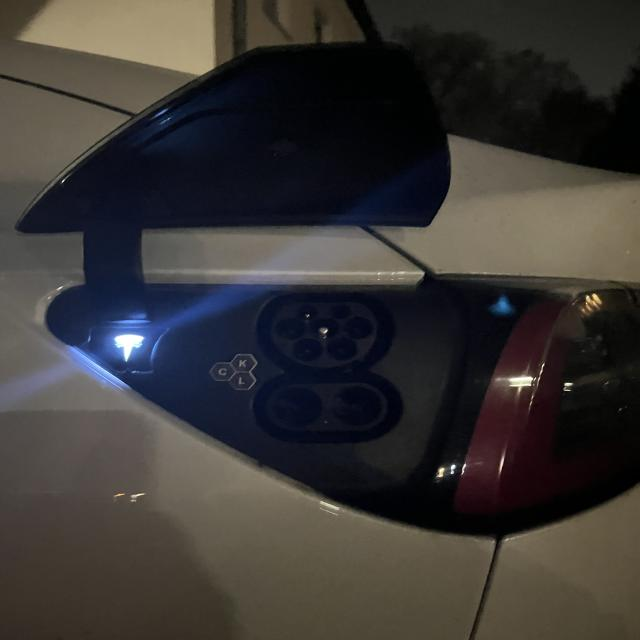inlet: (271, 302, 378, 368)
inlet-above-left: (295, 305, 318, 320)
inlet-above-right: (331, 304, 350, 319)
inlet-below-left: (292, 339, 322, 360)
inlet-below-right: (327, 337, 357, 360)
inlet-circle: (309, 318, 339, 339)
inlet-circle-left: (276, 318, 305, 339)
inlet-circle-right: (344, 317, 373, 338)
inlet-minus: (331, 386, 382, 425)
inlet-plus: (273, 388, 322, 426)
